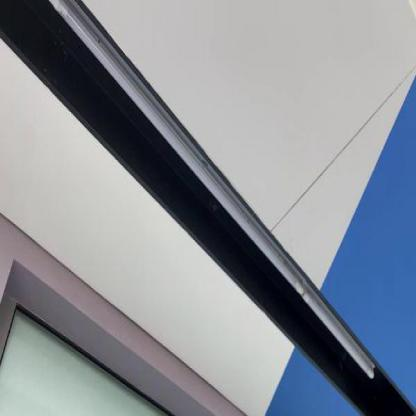light_off: (44, 4, 390, 384)
